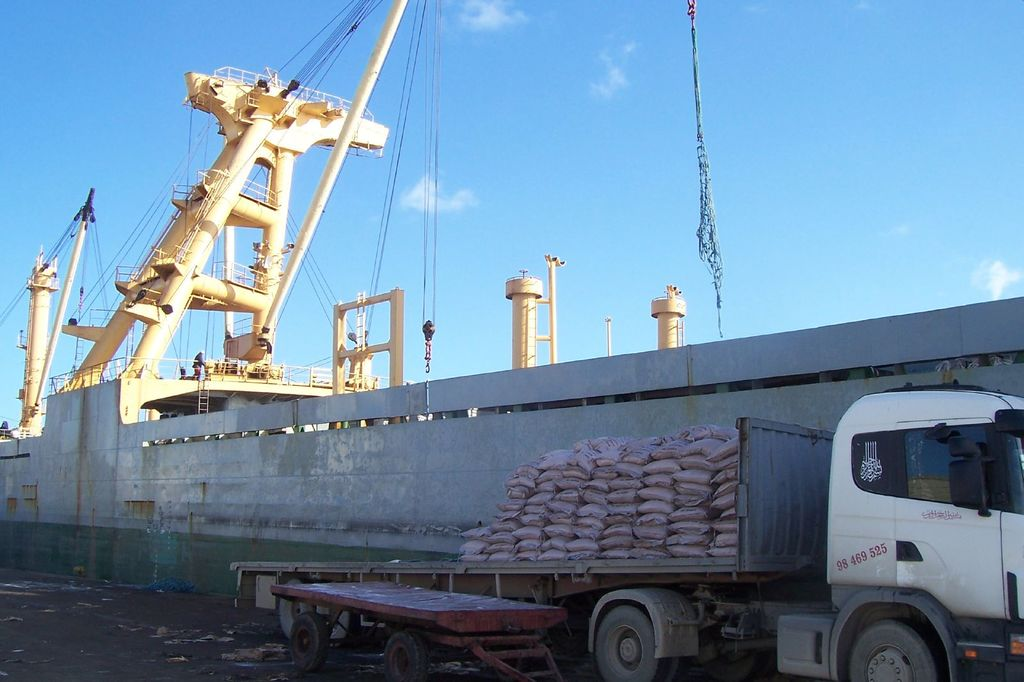truck: (233, 380, 1024, 681)
